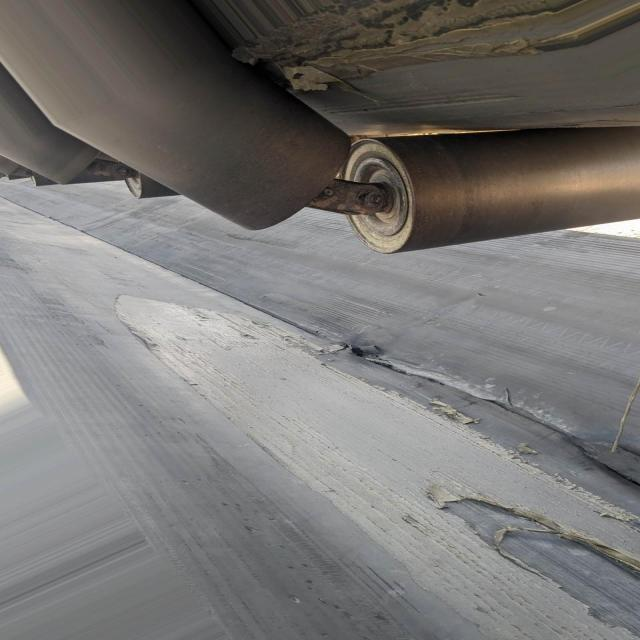Roller: (87, 68, 348, 229), (340, 123, 640, 254)
Tear: (290, 338, 640, 520), (441, 501, 640, 639)
